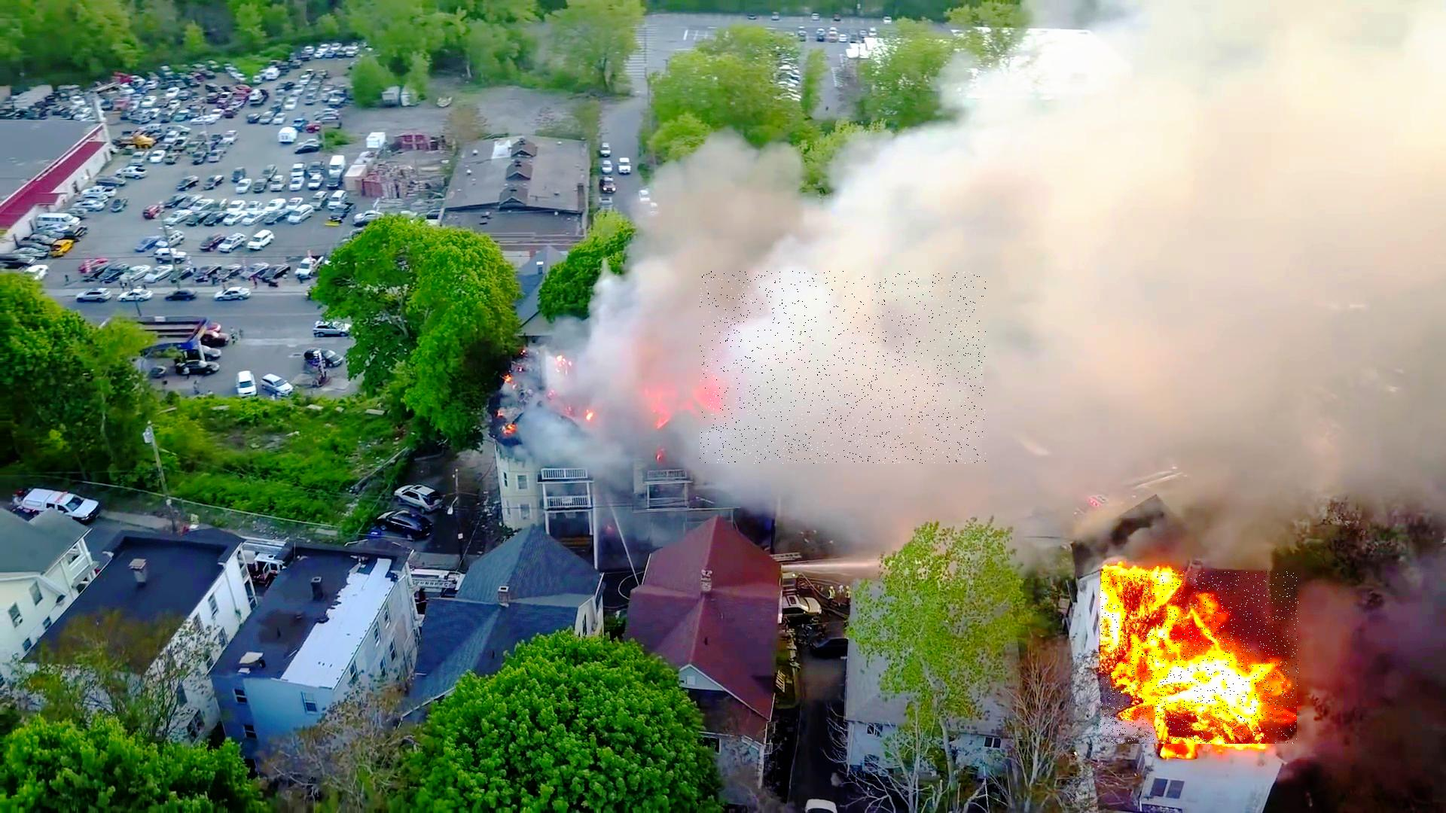fire: (1101, 571, 1299, 744)
smoke: (700, 271, 986, 464)
